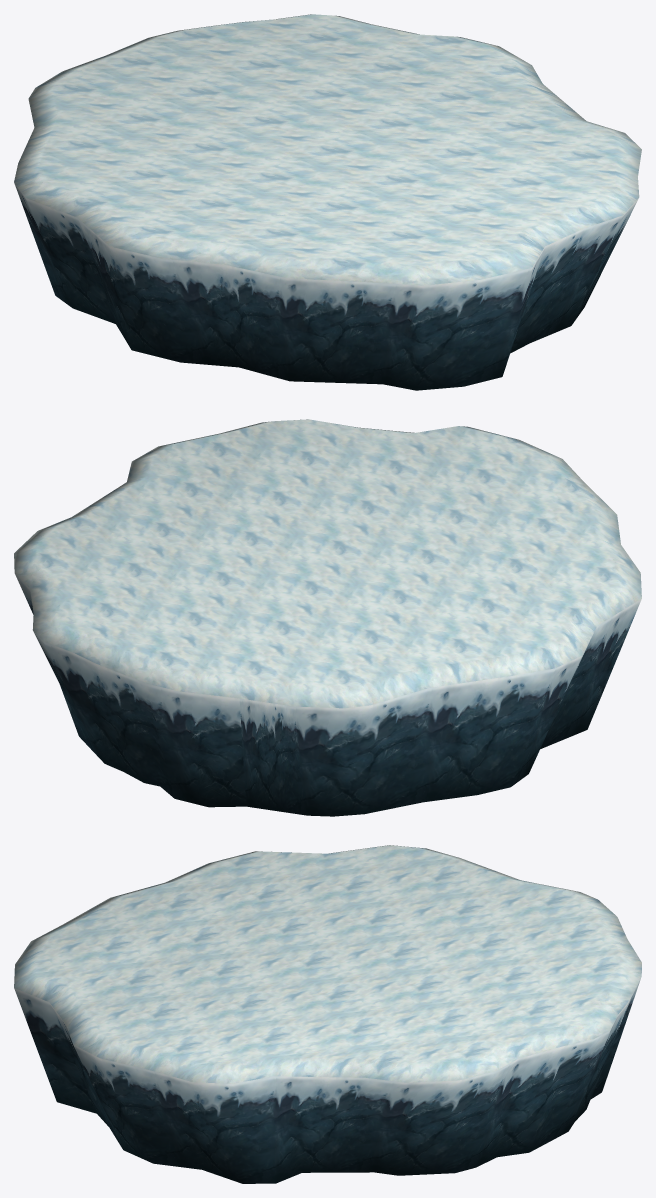
Rendered from 3-1_dikuai1.FBX.
3 views of the same model, one above another, from view 1: azimuth 30°, elevation 25°; view 2: azimuth 150°, elevation 25°; view 3: azimuth 270°, elevation 25° (orthographic). The views are drawn at different scales.
Visible parts, largest first — view 1: 3-1_dikuai1; view 2: 3-1_dikuai1; view 3: 3-1_dikuai1.
Part boxes in pixels (bbox=[...]): 3-1_dikuai1: bbox=[14, 14, 641, 390]; 3-1_dikuai1: bbox=[14, 419, 641, 816]; 3-1_dikuai1: bbox=[14, 845, 641, 1183].
Bounding box in the file's own units: 6938 × 1727 × 7708.
